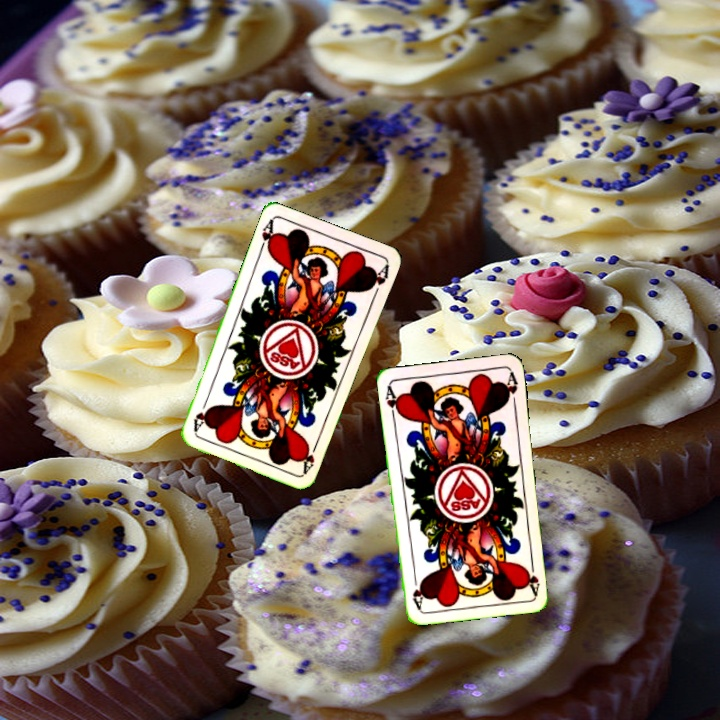HA: (255, 216, 279, 256), (381, 382, 403, 423), (299, 436, 321, 475), (523, 555, 542, 596)
